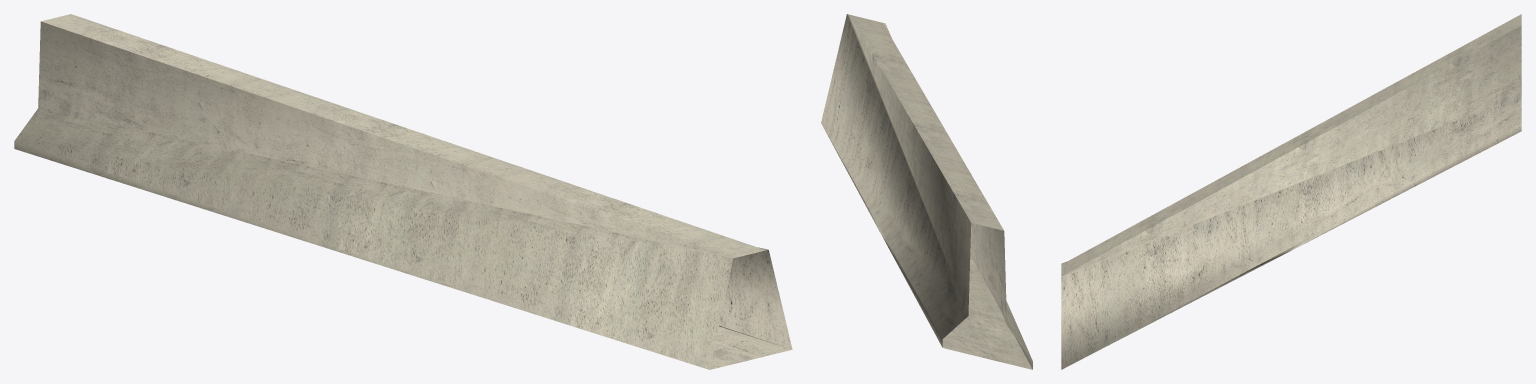
File: GSDBarrier-KRailCapExtendedE.fbx
3 views of the same model, side by side, from view 1: azimuth 30°, elevation 25°; view 2: azimuth 150°, elevation 25°; view 3: azimuth 270°, elevation 25° (orthographic). The views are drawn at different scales.
Visible parts, largest first — view 1: KRail5mCapE; view 2: KRail5mCapE; view 3: KRail5mCapE.
Part boxes in pixels (box(x1,y1,x2,y2)): KRail5mCapE: box(14, 14, 792, 369); KRail5mCapE: box(821, 14, 1032, 369); KRail5mCapE: box(1061, 14, 1521, 369).
Bounding box in the file's own units: 4.81 × 2.14 × 5.
